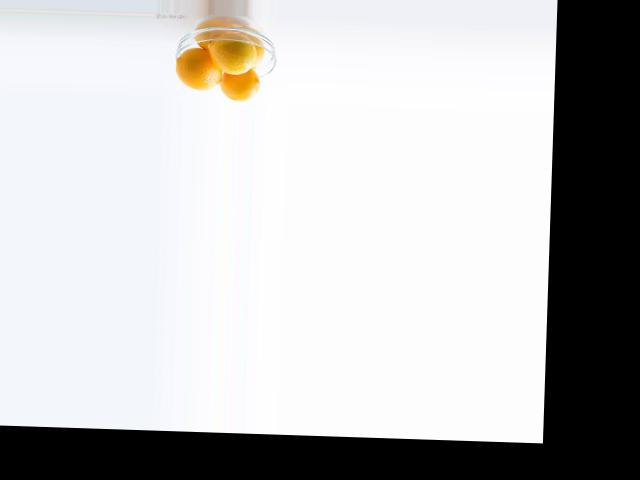lemon: (172, 53, 225, 91)
